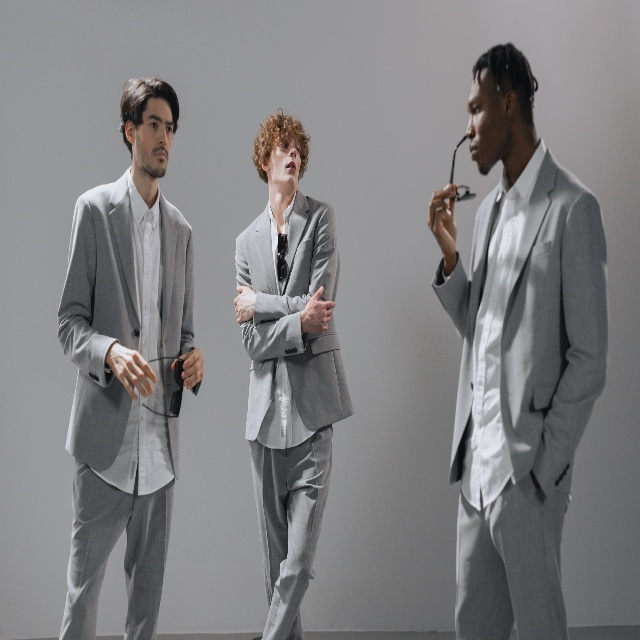Gafas: (143, 356, 184, 417), (449, 136, 476, 202), (277, 232, 288, 281)
Sin_guantes: (108, 341, 157, 402), (427, 183, 458, 259), (301, 286, 336, 335), (171, 345, 204, 389), (233, 285, 257, 324)
